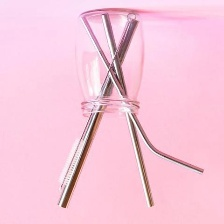drinking_straw: (98, 10, 156, 211)
glass: (69, 5, 148, 124)
